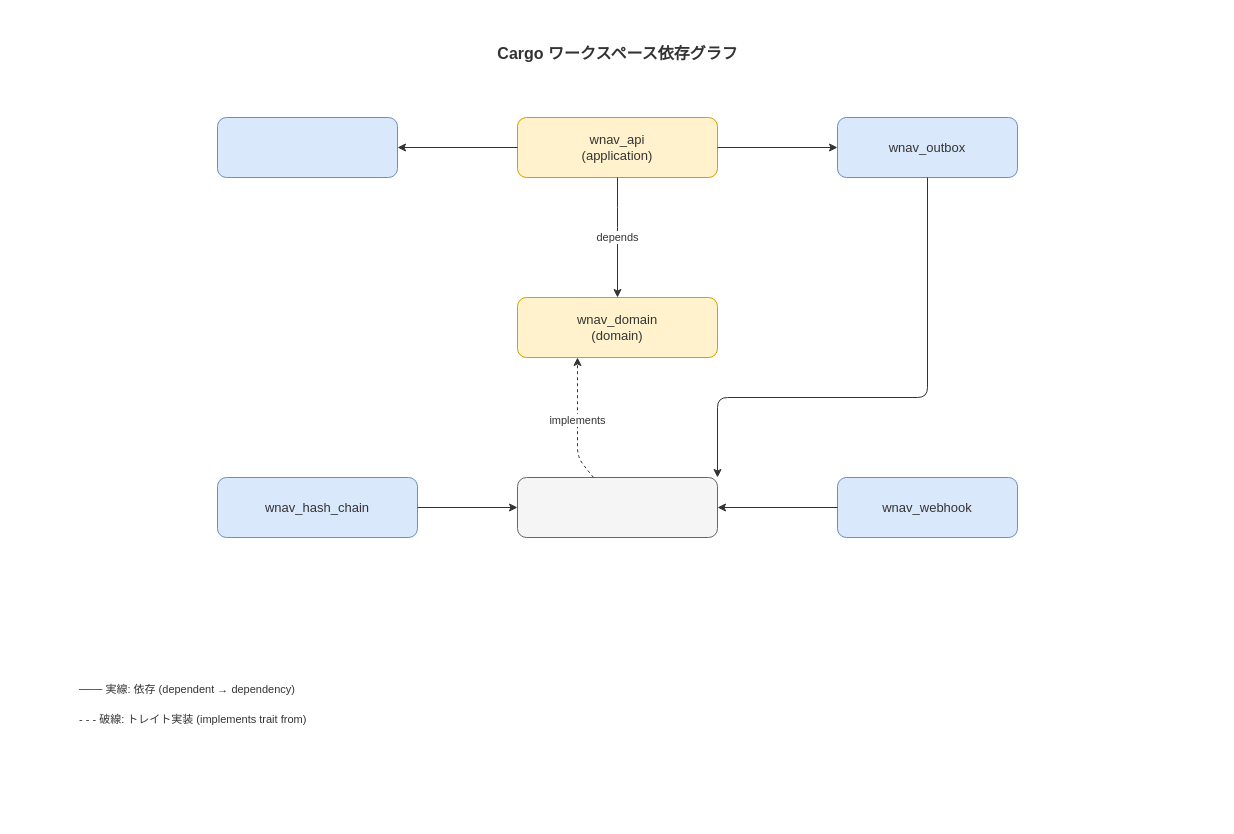
This 1234x834 diagram has some shape labels left out. The shapes that lost their labels are listed below. From the top down, each one's box as (x1, y1, x2, y2) in pixels, then its label:
(216, 116, 398, 178): wnav_auth
(516, 476, 718, 538): wnav_db (implements domain traits)
